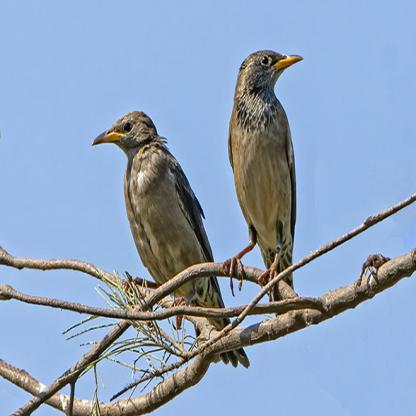Burung: (90, 113, 250, 371), (228, 52, 295, 300)
